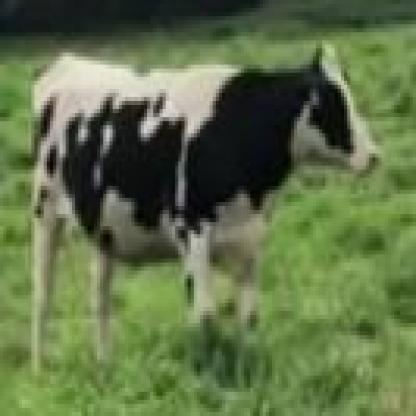cow: (35, 57, 378, 376)
